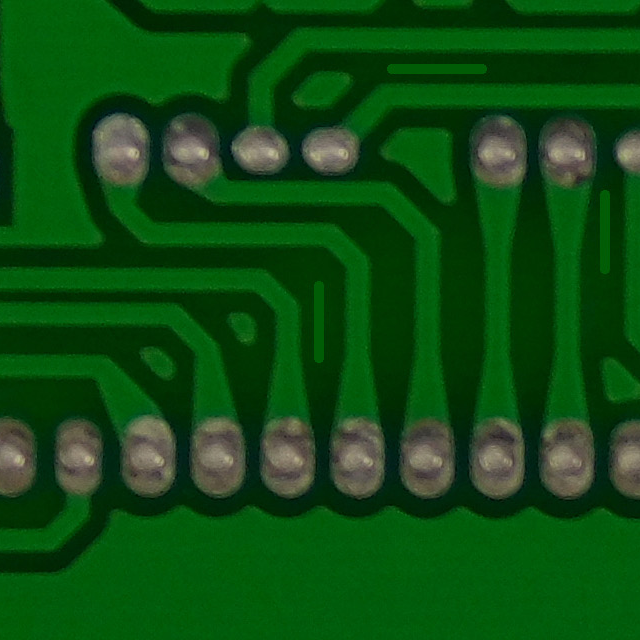spurious_copper: (375, 49, 501, 99), (580, 175, 630, 291), (298, 265, 342, 375)
